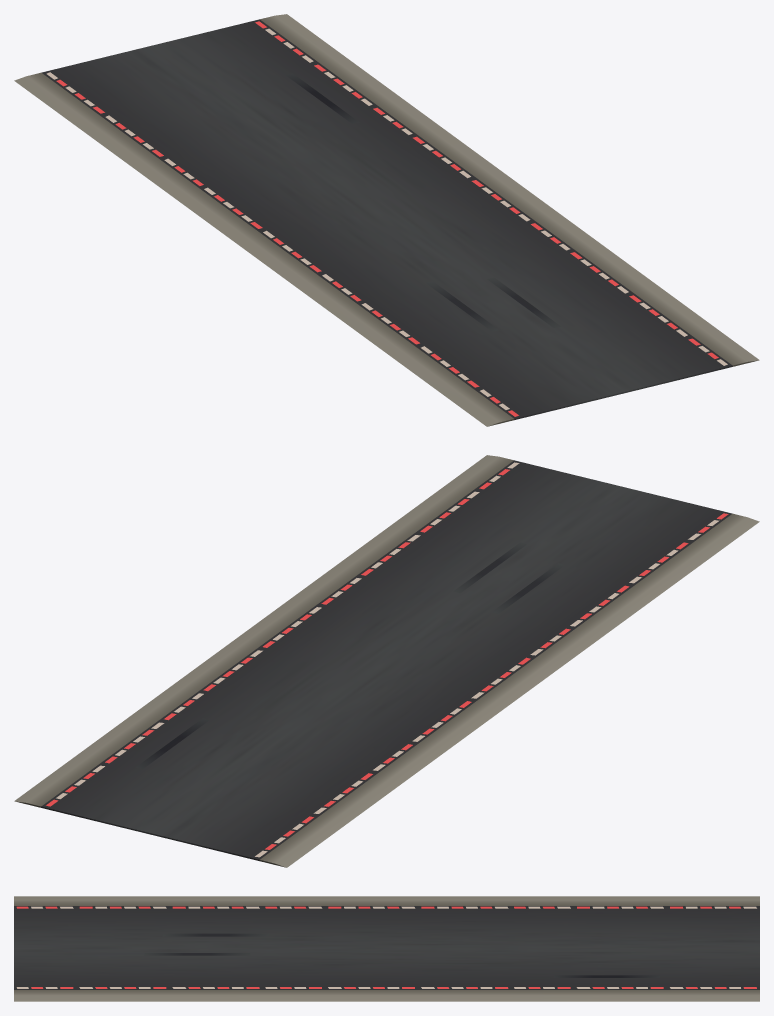
File: Straight_1D_Long.fbx
3 renders of one model, top to bottom at view 1: azimuth 30°, elevation 25°; view 2: azimuth 150°, elevation 25°; view 3: azimuth 270°, elevation 25°, orthographic. The views are drawn at different scales.
Parts seen in each view (by area): view 1: Straight_1D_Long, Straight_1D_Long_Skidmarks; view 2: Straight_1D_Long, Straight_1D_Long_Skidmarks; view 3: Straight_1D_Long, Straight_1D_Long_Skidmarks.
Boxes of the visible parts, <box> form: Straight_1D_Long: <box>14,14,759,426</box>; Straight_1D_Long_Skidmarks: <box>286,73,561,331</box>; Straight_1D_Long: <box>14,455,759,867</box>; Straight_1D_Long_Skidmarks: <box>136,542,564,769</box>; Straight_1D_Long: <box>14,896,759,1001</box>; Straight_1D_Long_Skidmarks: <box>144,933,659,977</box>.
Bounding box in the file's own units: 2000 × 10.4 × 6000.
